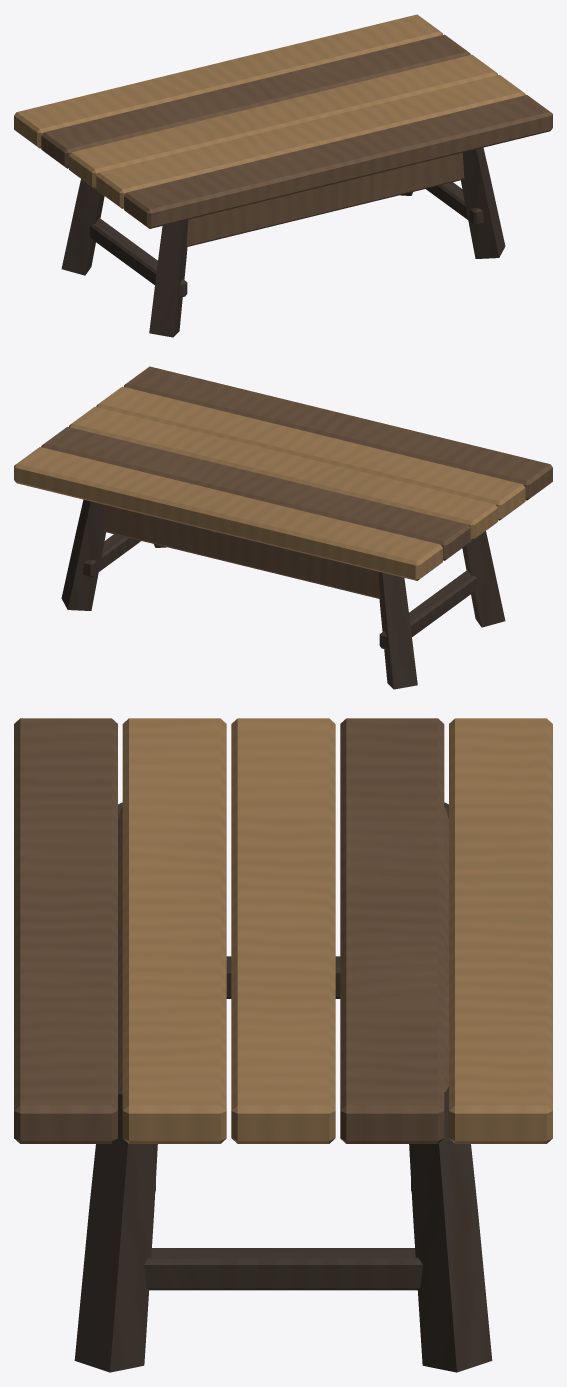
Rendered from PR_LowTable.glb.
3 renders of one model, top to bottom at view 1: azimuth 30°, elevation 25°; view 2: azimuth 150°, elevation 25°; view 3: azimuth 270°, elevation 25°, orthographic. The views are drawn at different scales.
Visible parts, largest first — view 1: PR_LowTable; view 2: PR_LowTable; view 3: PR_LowTable.
Boxes of the visible parts, box(x1,y1,x2,y2) form: PR_LowTable: box(14, 14, 552, 337); PR_LowTable: box(14, 366, 552, 689); PR_LowTable: box(14, 718, 552, 1372).
Bounding box in the file's own units: 1.2 × 0.4249 × 0.694.
3 materials, 3 textured.
